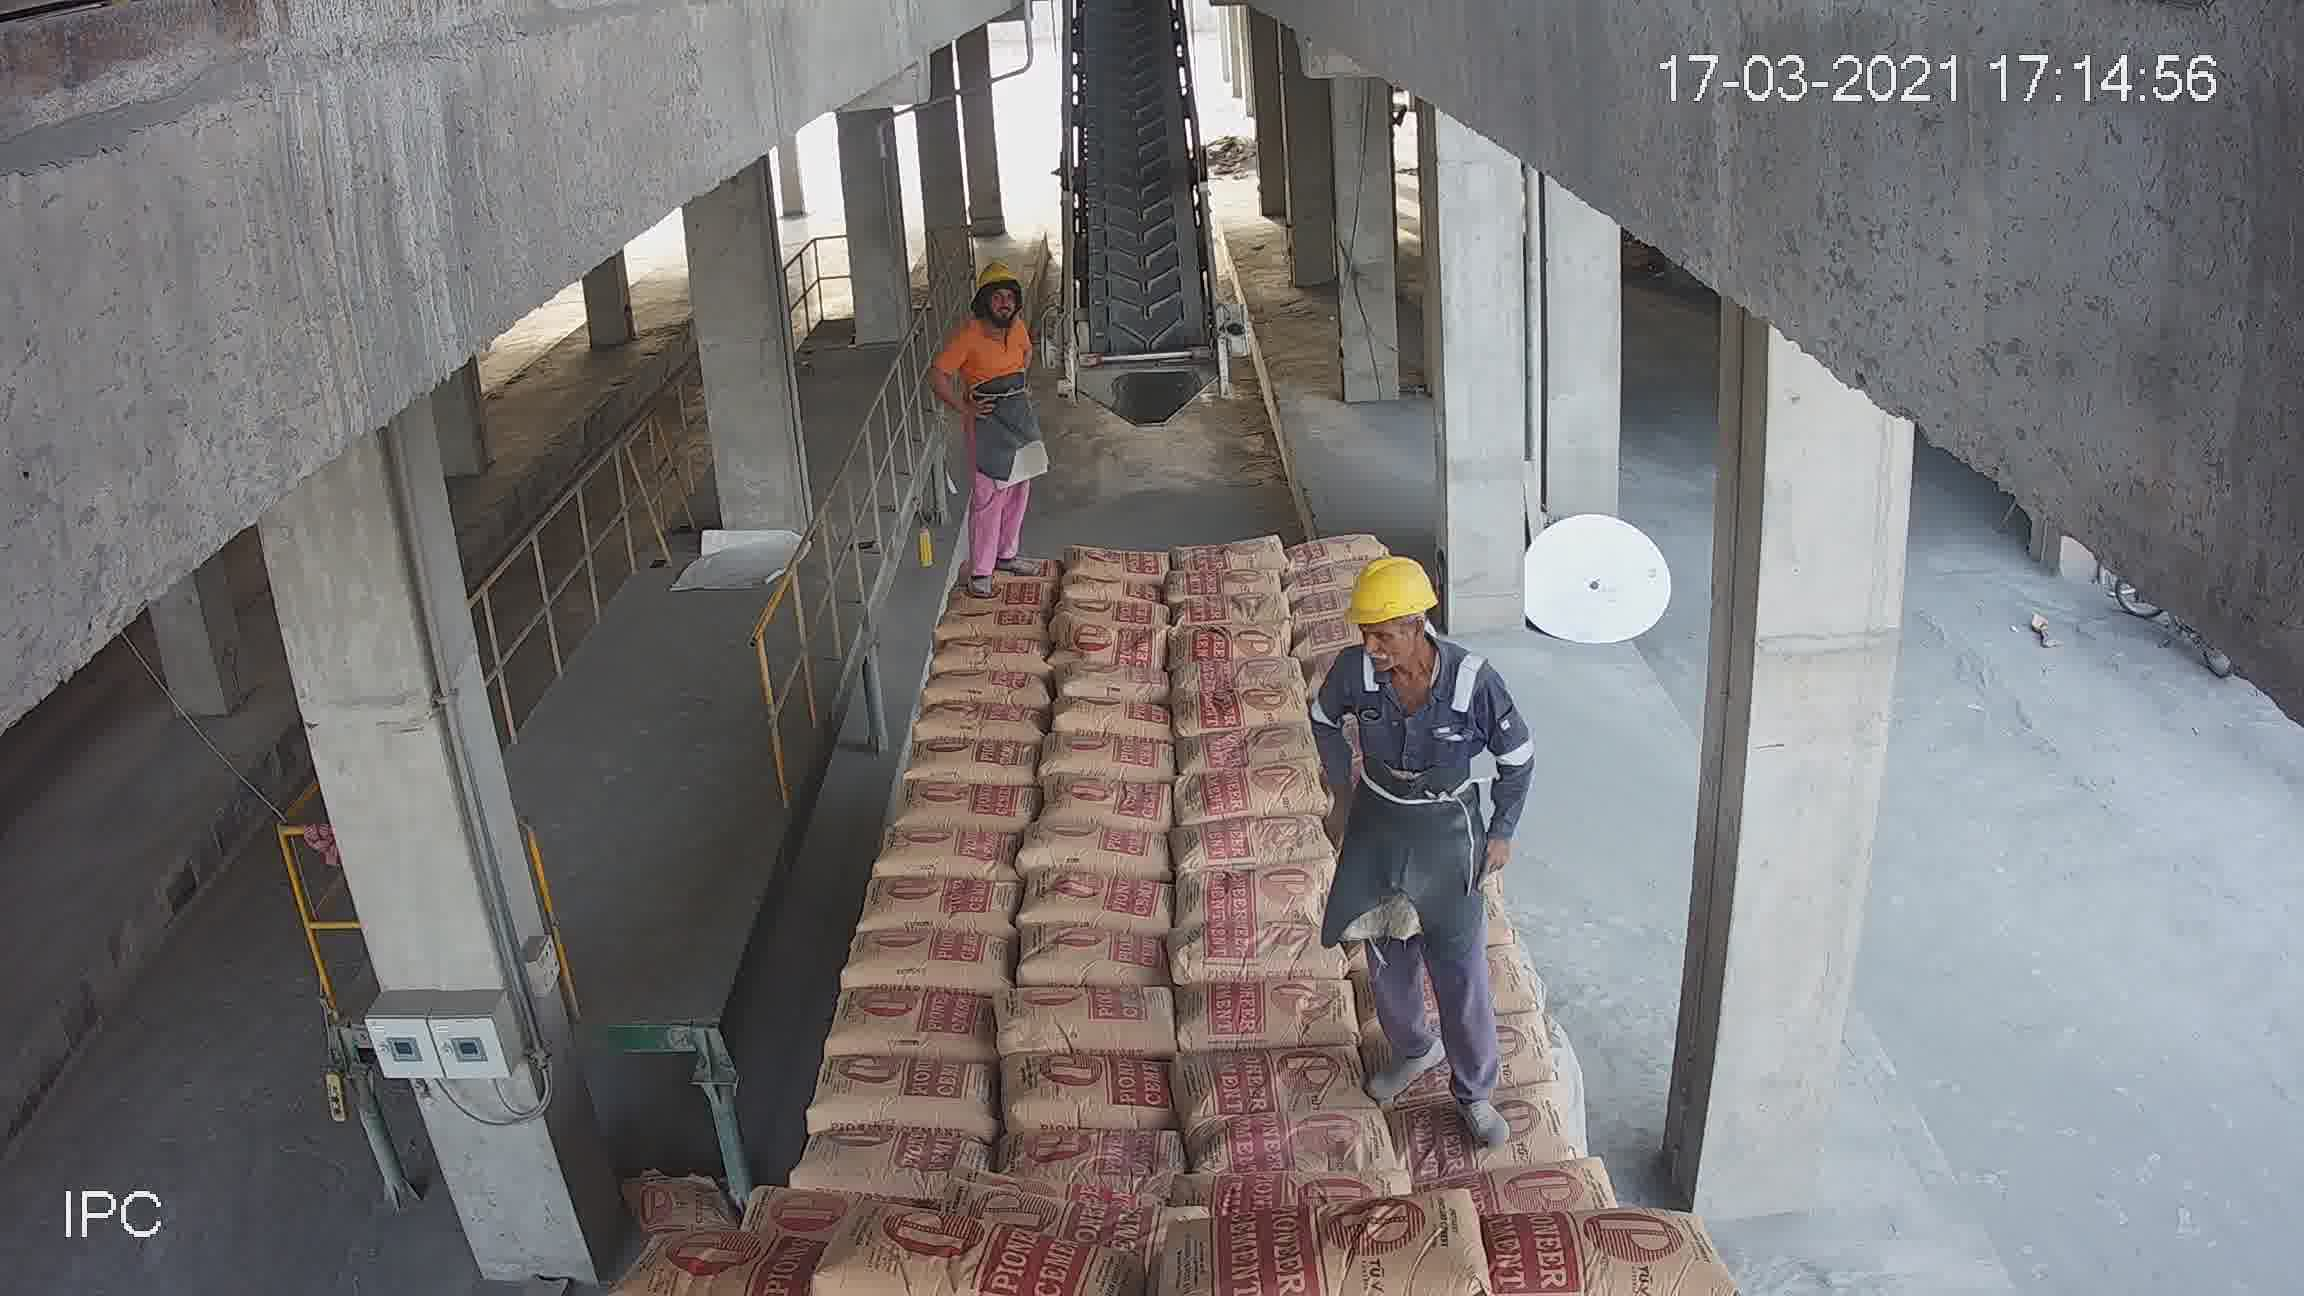bag_h: (1199, 1204, 1513, 1296), (799, 1214, 1130, 1294), (1393, 1070, 1568, 1192), (1451, 1214, 1711, 1294), (1196, 1106, 1408, 1192), (1185, 1044, 1374, 1135), (805, 1057, 1005, 1136), (1006, 1048, 1188, 1128), (638, 1226, 847, 1294), (1002, 984, 1188, 1060), (828, 978, 1005, 1057), (855, 870, 1029, 946), (1169, 923, 1355, 994), (1177, 980, 1361, 1051), (832, 926, 1017, 995), (788, 1128, 991, 1187), (1000, 1124, 1182, 1187), (1174, 862, 1334, 934), (1021, 813, 1171, 885), (1440, 1163, 1611, 1225), (1180, 756, 1331, 824), (1177, 810, 1329, 877), (1014, 934, 1176, 992), (1025, 873, 1184, 932), (1044, 772, 1184, 836), (892, 782, 1041, 837), (870, 829, 1017, 881), (908, 696, 1057, 745), (907, 737, 1041, 790), (1176, 725, 1315, 774), (1177, 687, 1313, 734), (1063, 611, 1168, 673), (1169, 655, 1301, 703), (1051, 739, 1179, 786), (913, 663, 1049, 707), (1060, 657, 1176, 707), (1168, 617, 1293, 661), (927, 636, 1063, 676), (946, 573, 1060, 619), (930, 604, 1055, 646), (1055, 699, 1165, 745), (1287, 514, 1397, 559), (1168, 525, 1293, 563), (1272, 554, 1370, 600), (1169, 590, 1293, 627), (1166, 565, 1285, 601), (1070, 543, 1169, 582), (1052, 574, 1165, 608), (1062, 600, 1173, 631)
belt: (1057, 5, 1217, 399)
